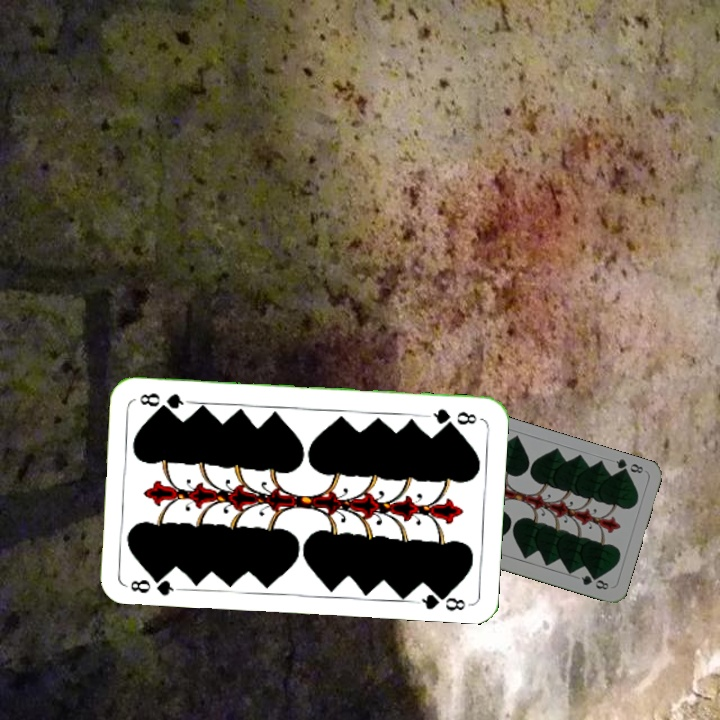G8: (123, 570, 182, 598), (423, 405, 479, 428), (612, 455, 646, 478)
